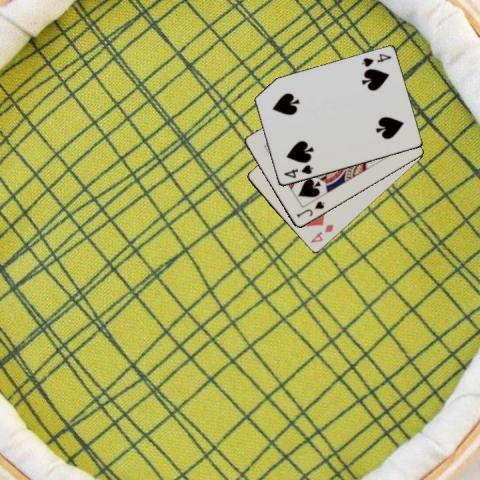4d: (308, 221, 336, 245)
4s: (359, 50, 392, 68), (280, 162, 314, 179)
Js: (293, 198, 326, 219)
